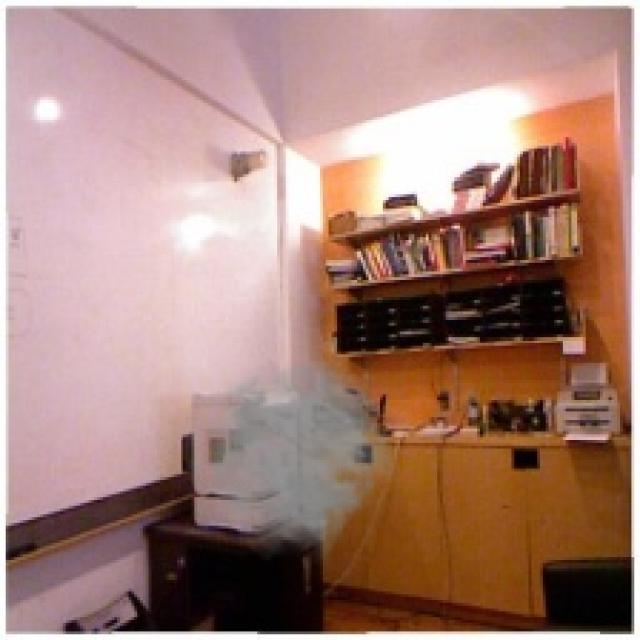smoke: (186, 354, 394, 566)
